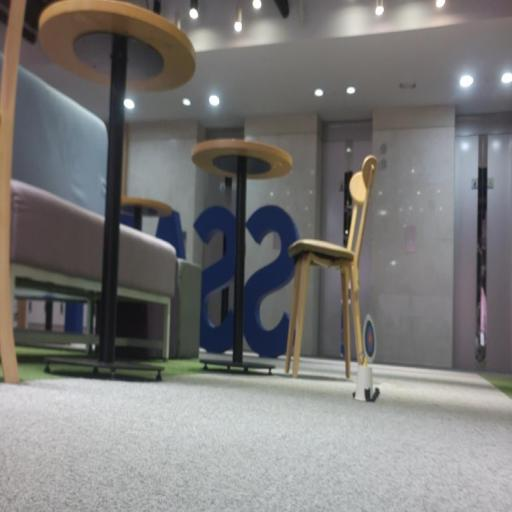target: (363, 314, 376, 363)
